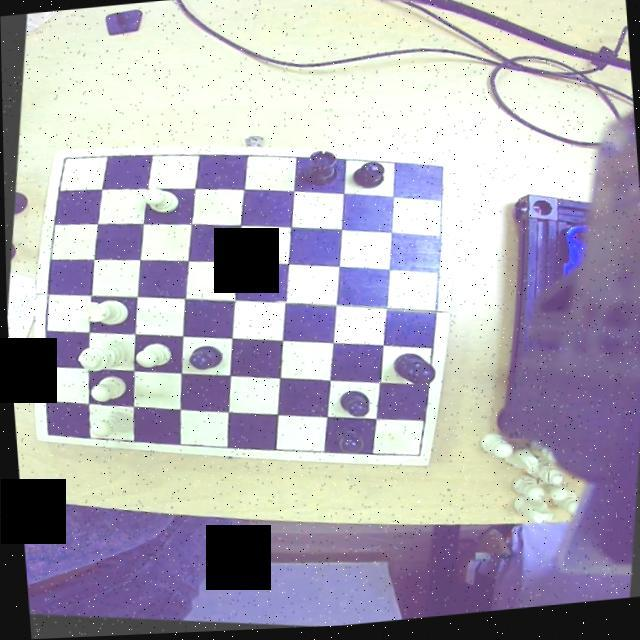chess-table-corners: (424, 162, 452, 188), (32, 424, 63, 445), (403, 444, 429, 469), (50, 152, 74, 174)
